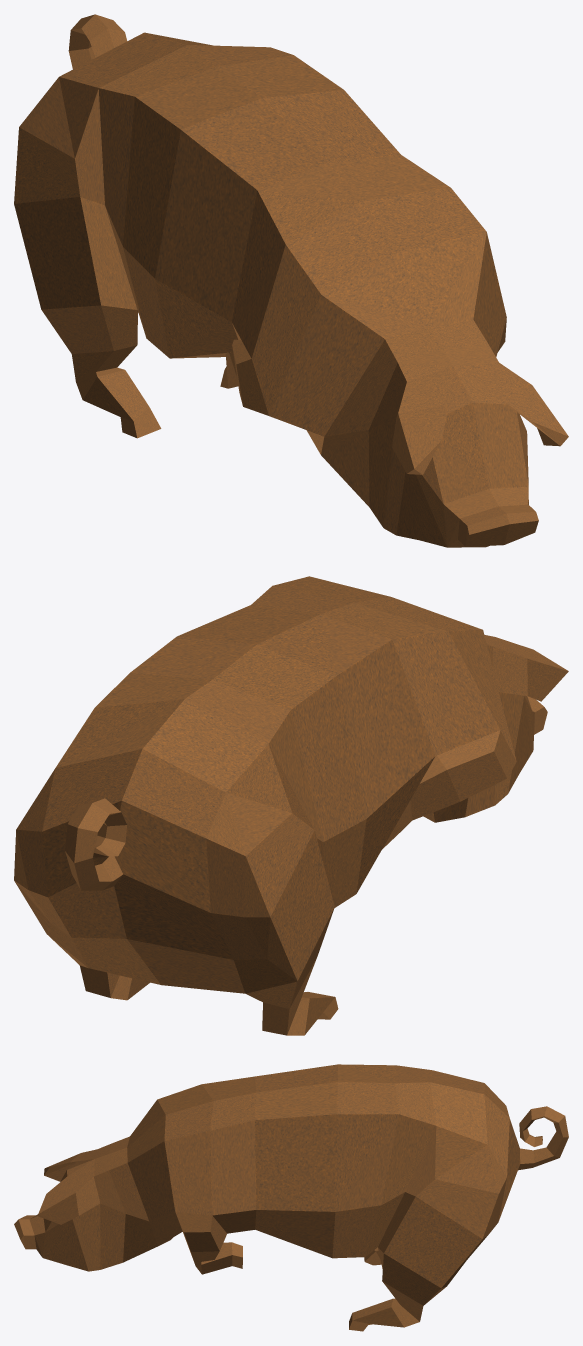
File: Pig_000006.obj
3 renders of one model, top to bottom at view 1: azimuth 30°, elevation 25°; view 2: azimuth 150°, elevation 25°; view 3: azimuth 270°, elevation 25°, orthographic. The views are drawn at different scales.
Parts seen in each view (by area): view 1: Pig_Cylinder; view 2: Pig_Cylinder; view 3: Pig_Cylinder.
Boxes of the visible parts, <box> form: Pig_Cylinder: <box>14,14,568,547</box>; Pig_Cylinder: <box>14,576,568,1035</box>; Pig_Cylinder: <box>14,1064,568,1331</box>.
Bounding box in the file's own units: 3.38 × 4.18 × 9.67.
Materials: 1 (1 with a texture image).
